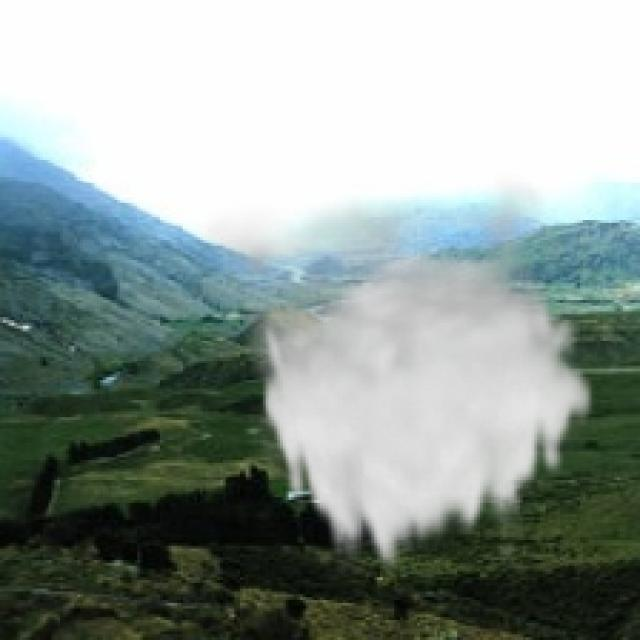Smoke: (188, 172, 598, 577)
